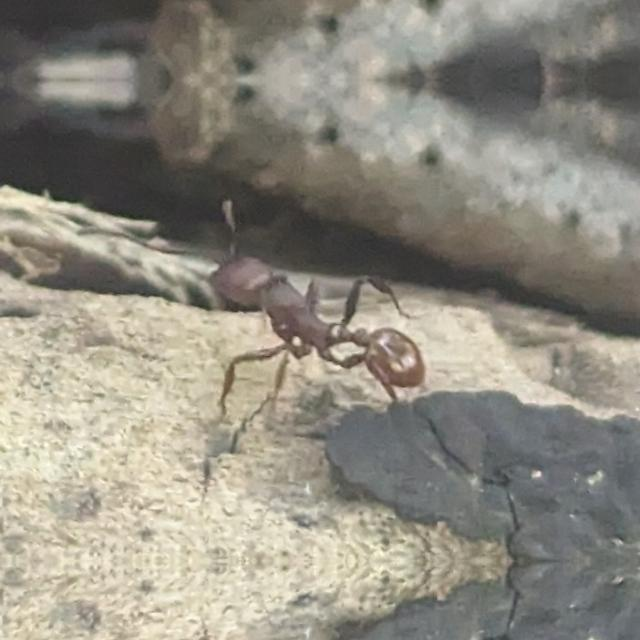Apheanogaster: (171, 212, 461, 414)
